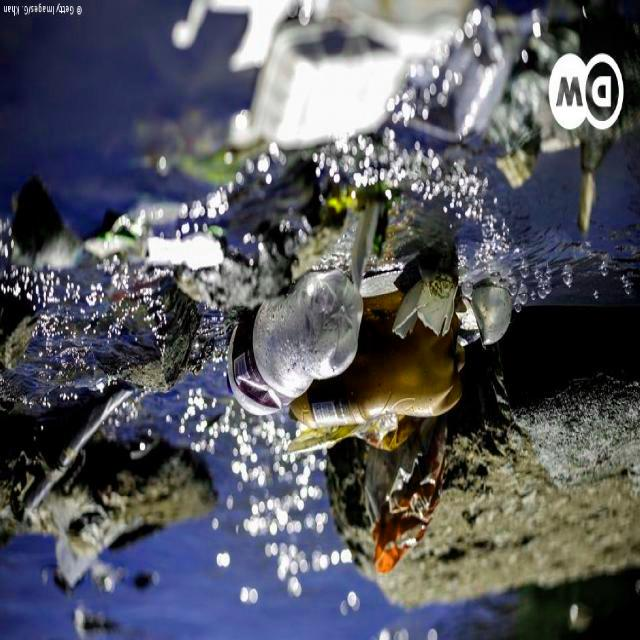Plastic: (225, 265, 363, 417), (284, 312, 462, 425)
Trash: (253, 29, 400, 145), (357, 423, 452, 579), (48, 489, 116, 589), (282, 416, 417, 454), (392, 274, 452, 339), (453, 286, 515, 345)
